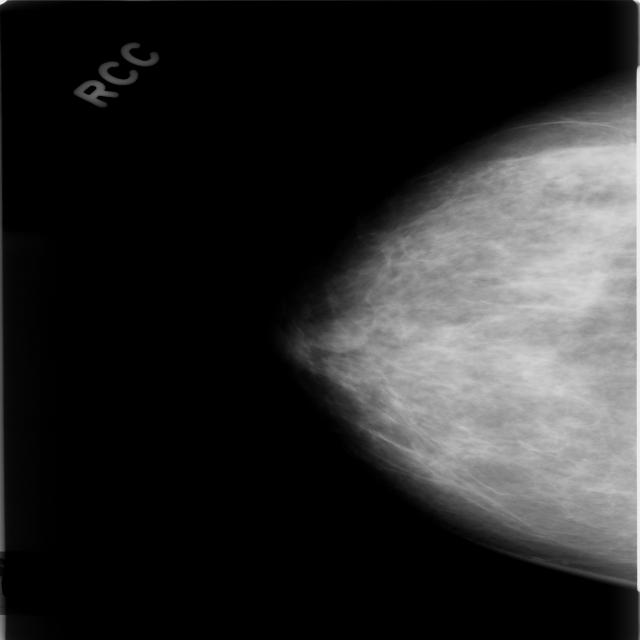normal: (265, 75, 640, 572)
